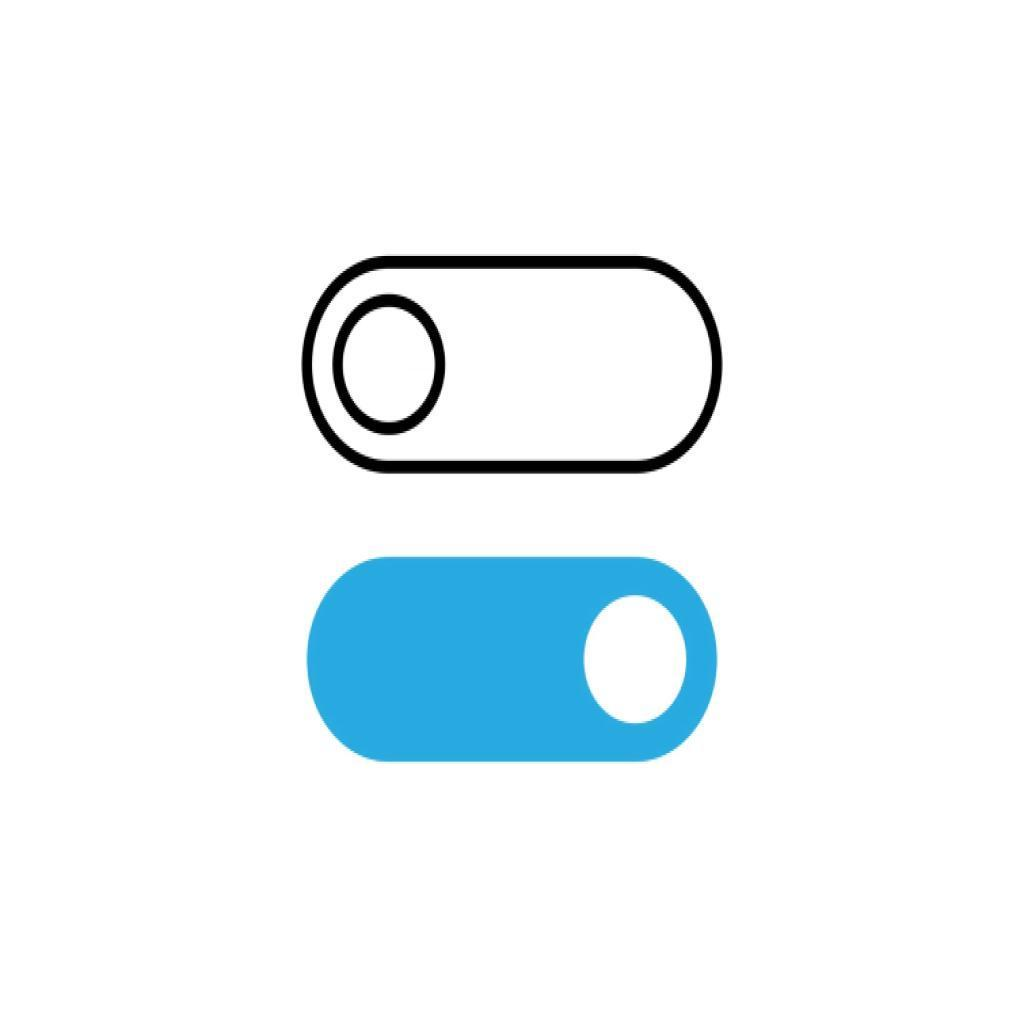switch: (304, 257, 724, 473), (310, 561, 717, 763)
